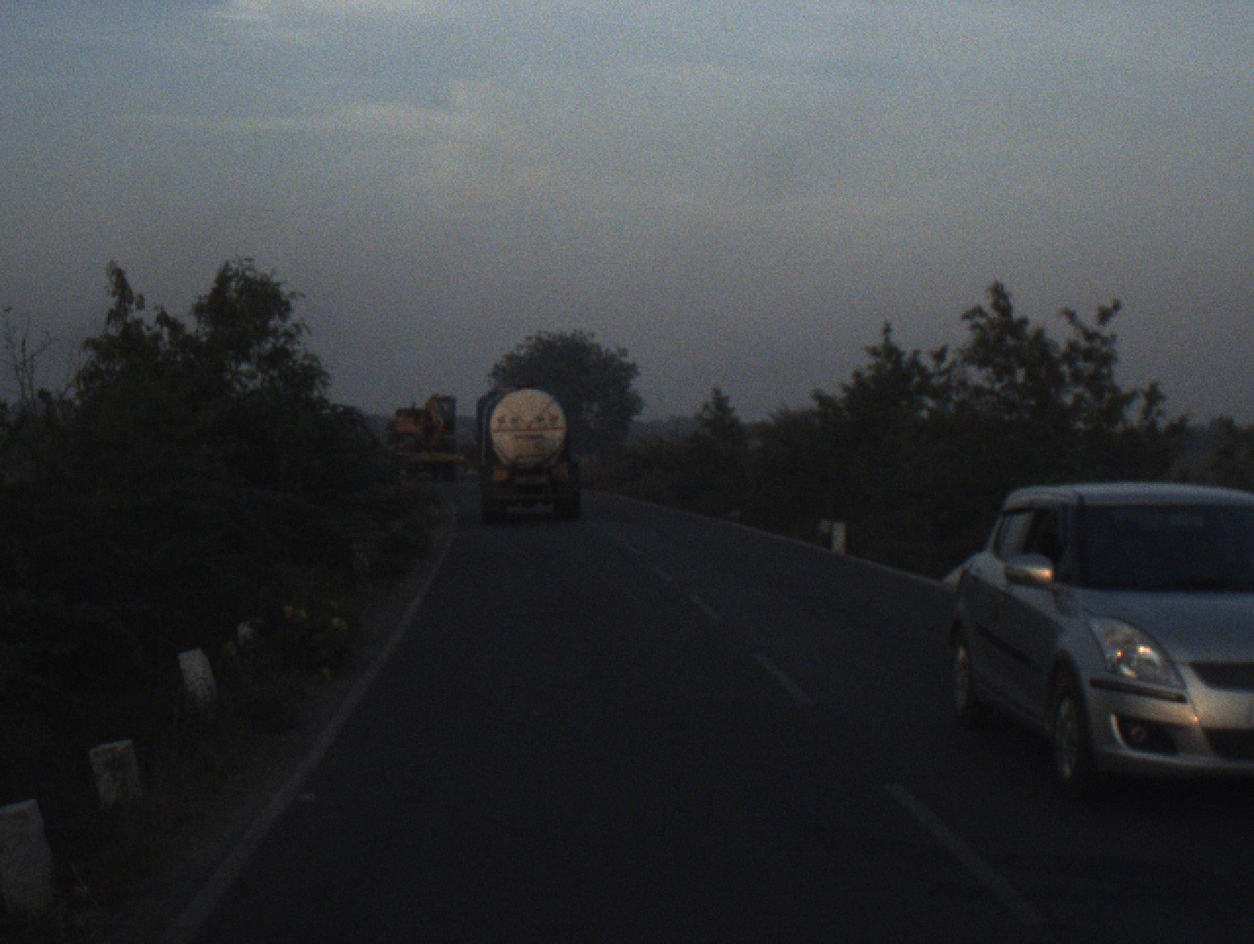car: (942, 481, 1254, 812)
truck: (470, 379, 583, 531)
vehicle fallback: (381, 388, 465, 488)
